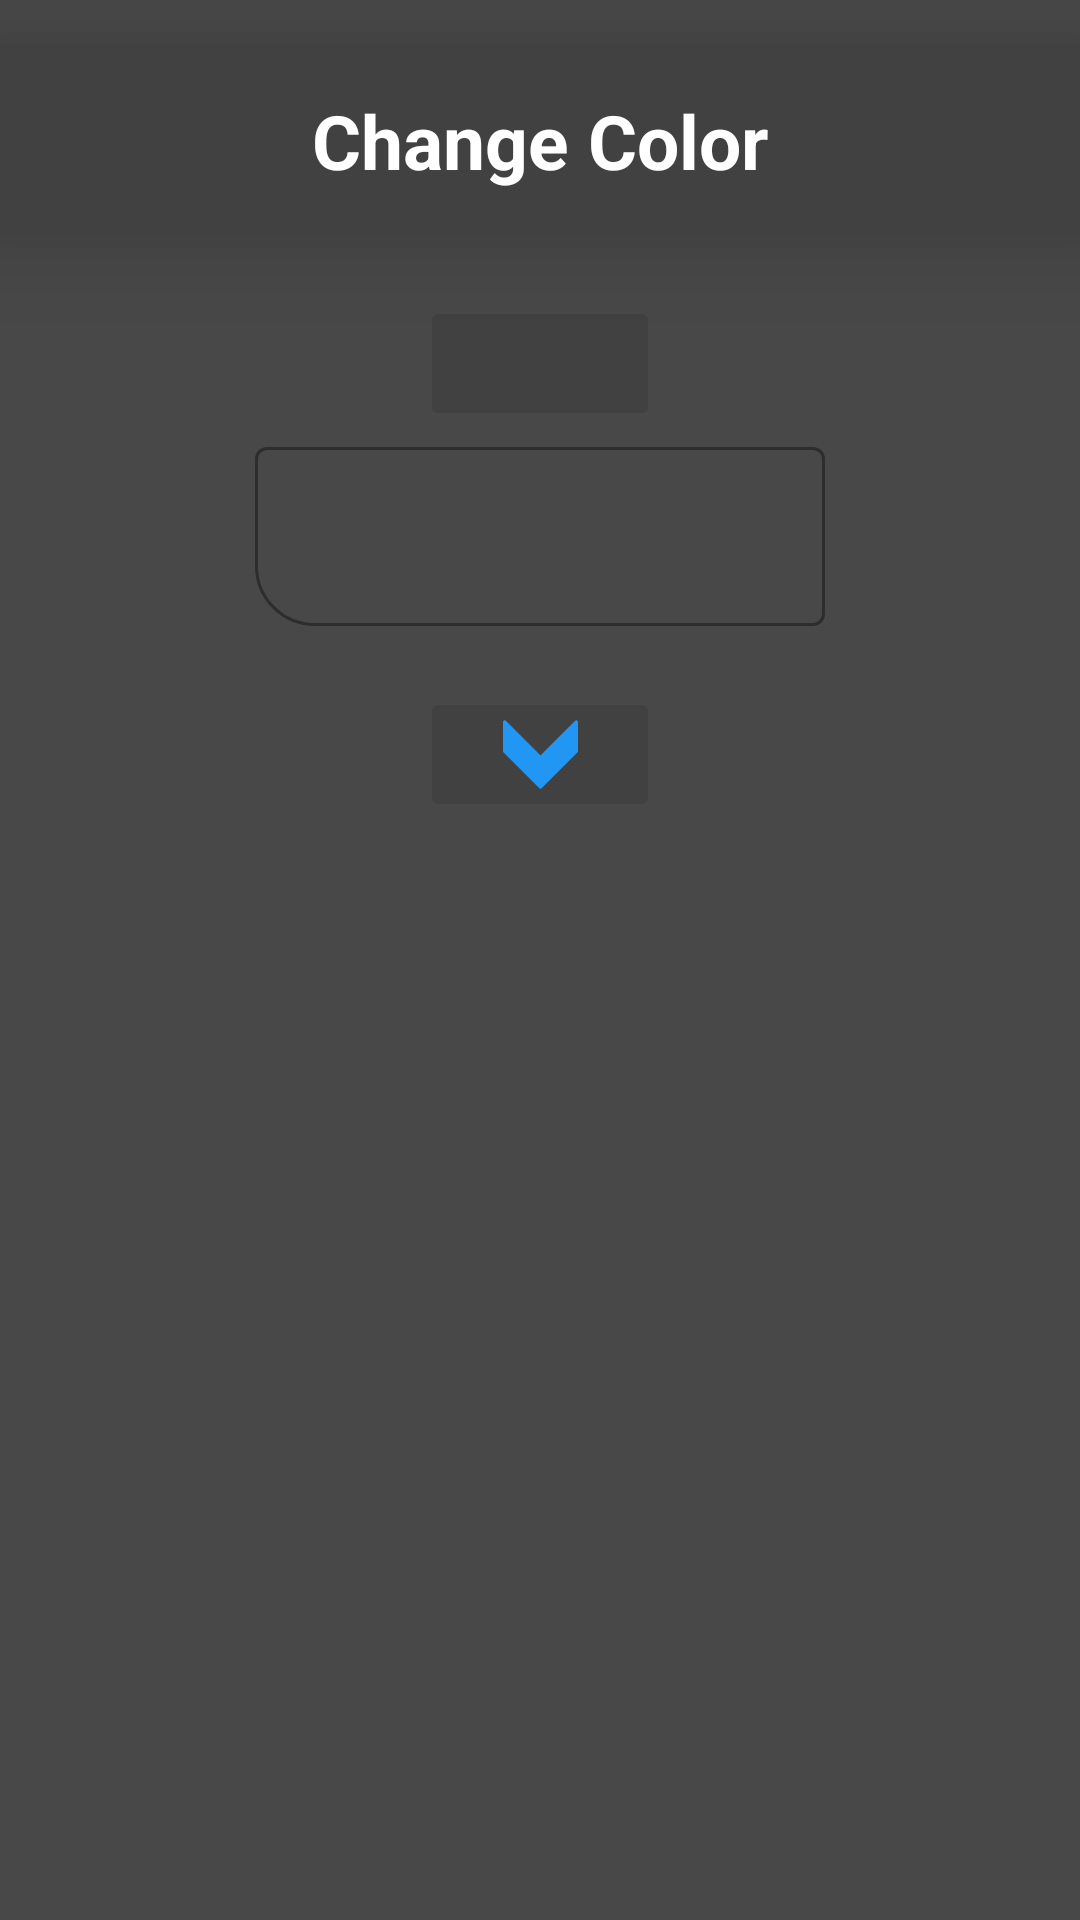

Named icons in this screenshot (1080w x 1920h) and their centers, point (x, y):
arrow down: point (540, 754)
